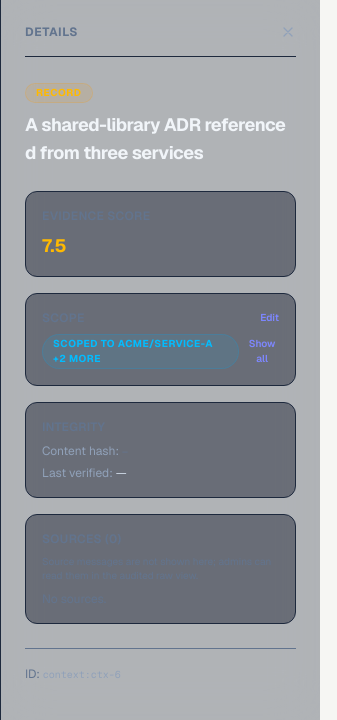
Test: NodeInspectorPanel component tests › should show a +N more badge for a multi-repo-scoped context, expandable to the full list
Expected: the text "Scoped to acme/service-a +2 more" is shown, [42,334,239,369]
Click the button with test id "context-scope-expand-toggle".
click(262, 352)  # box [245,337,279,366]
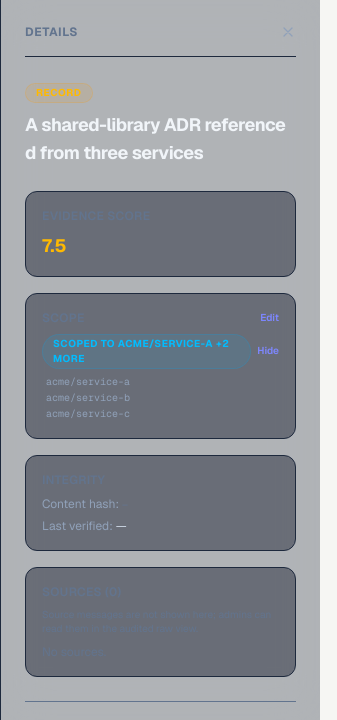
Expected: the list with test id "context-scope-full-list" shows "acme/service-a", [46,375,130,388]
Expected: the list with test id "context-scope-full-list" shows "acme/service-b", [46,391,130,404]
Expected: the list with test id "context-scope-full-list" shows "acme/service-c", [46,407,130,420]
